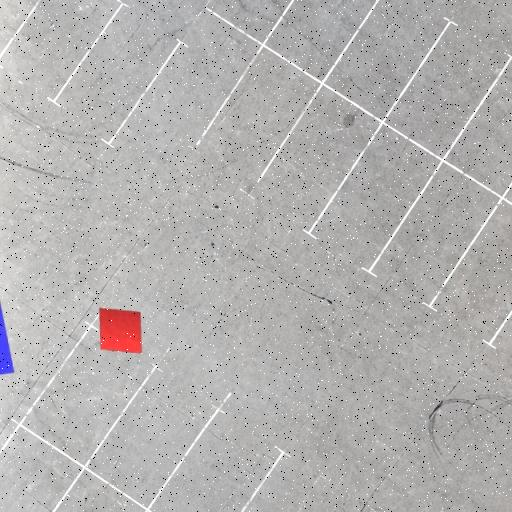RED_SQUARE: (98, 308, 142, 354)
